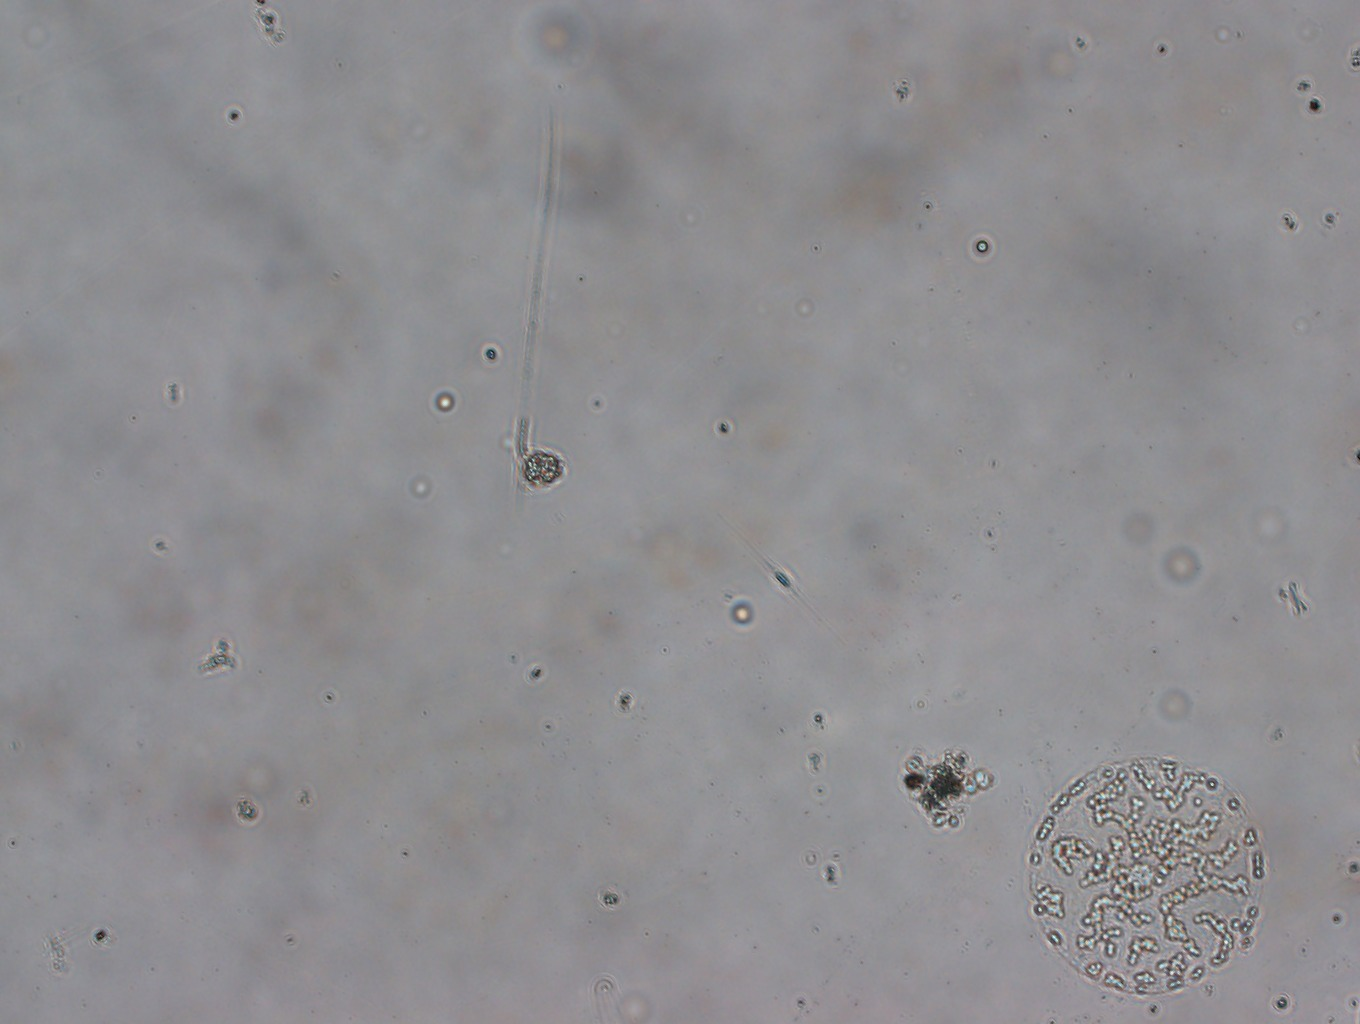coscinodiscus: (1025, 755, 1266, 996)
